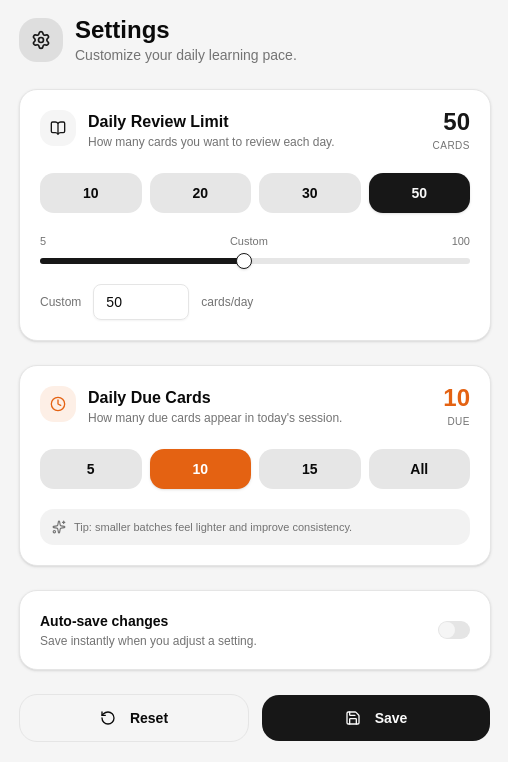
Test: SettingsPage › reset › restores the default review limit in the input after reset
The width and height of the screenshot is (508, 762).
Expected: the heading "Settings" is shown, [75,16,170,43]
Click the button "Reset" at (134, 718), box [19,694,249,742]
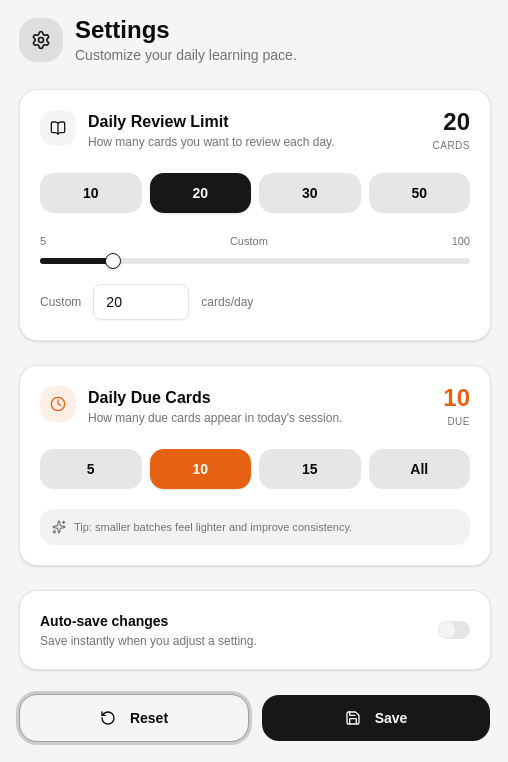
Expected: the number field holds "20", [93,284,189,320]
